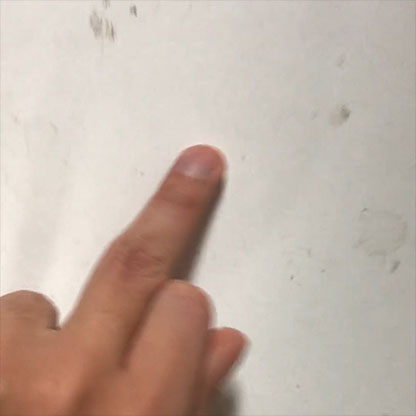fingertip: (171, 131, 237, 200)
